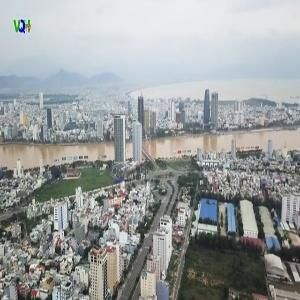drone: (101, 160, 137, 196)
